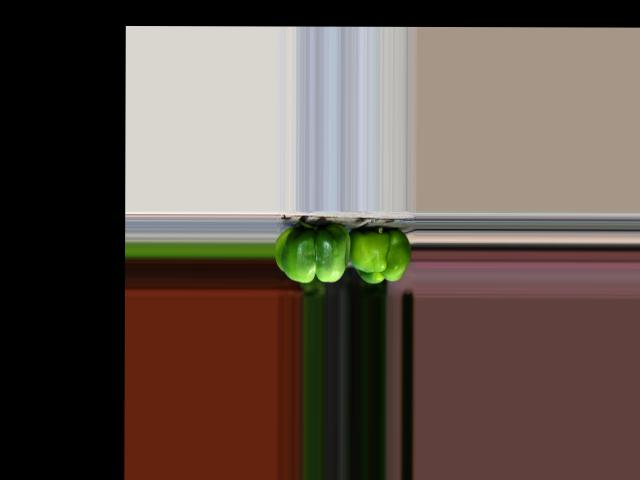bell_pepper: (348, 223, 413, 286)
